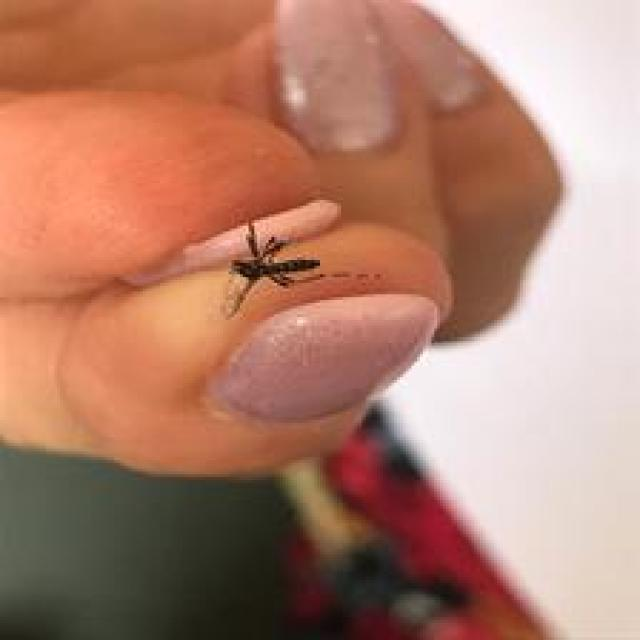Aedes albopictus: (220, 220, 323, 320)
